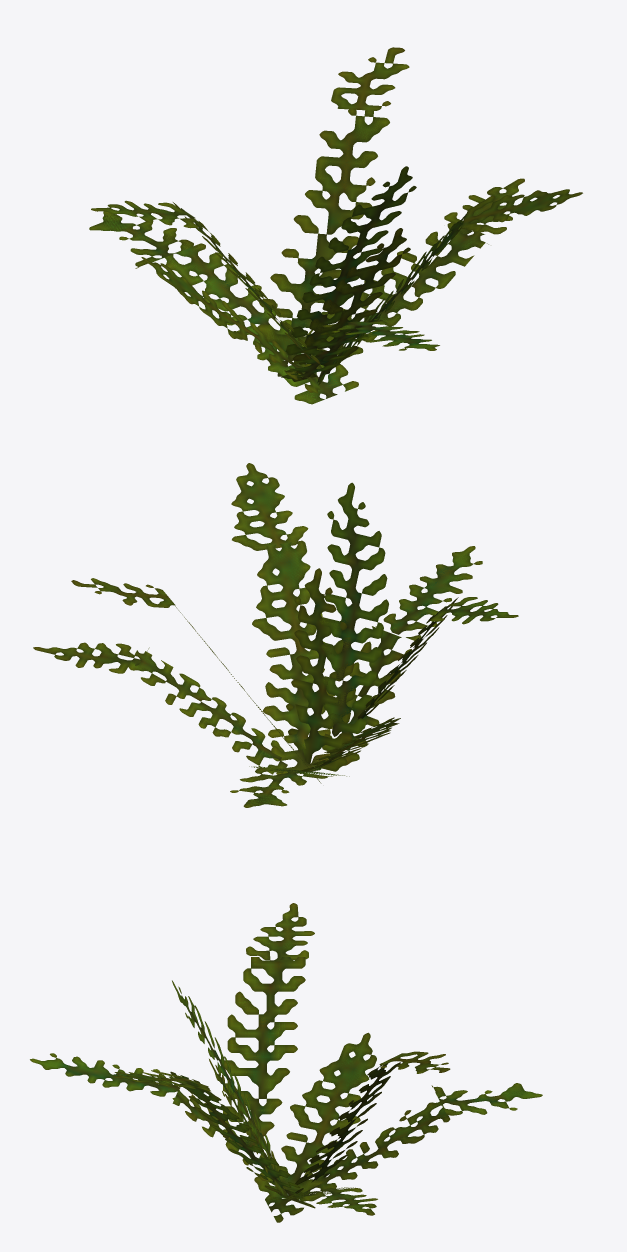
The model's file is fern.obj.
The picture shows the model from 3 angles, top to bottom: view 1: azimuth 30°, elevation 25°; view 2: azimuth 150°, elevation 25°; view 3: azimuth 270°, elevation 25°; orthographic projection. The views are drawn at different scales.
Parts seen in each view (by area): view 1: cube; view 2: cube; view 3: cube.
Part boxes in pixels (x1,y1,x2,y2): cube: (89,47,582,404); cube: (33,463,518,807); cube: (30,903,542,1222).
Size of the model in its own units: 2.32 by 1.08 by 2.41.
